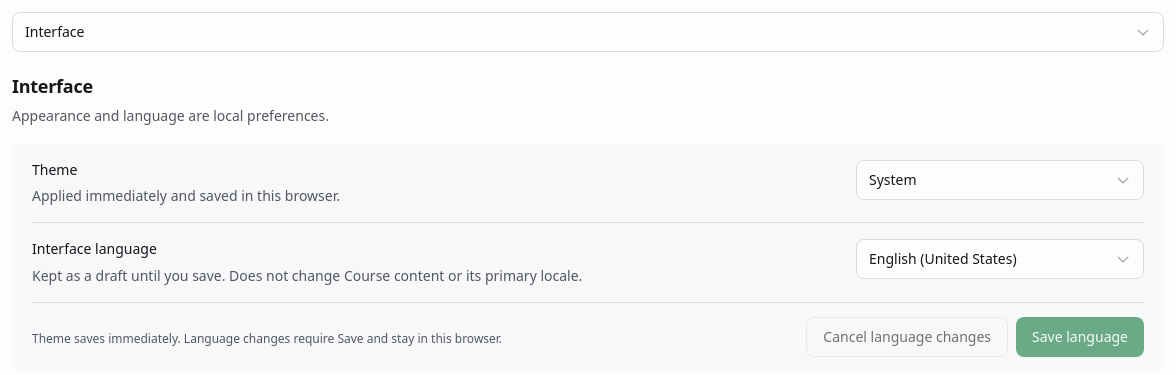
Test case: SettingsForm › cancels the locale draft without changing or persisting the locale
expect the heading "Interface" is shown: met, box [12,74,93,98]
Step 1. Click the dropdown named "Interface language" → (1000, 259), box [856,239,1144,279]
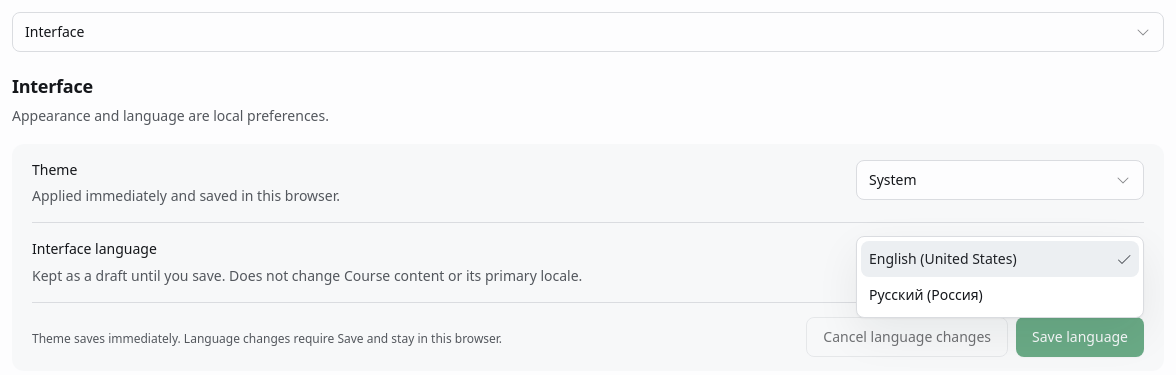
Step 2. Click the option "Русский (Россия)" → (926, 295), box [869,285,983,304]
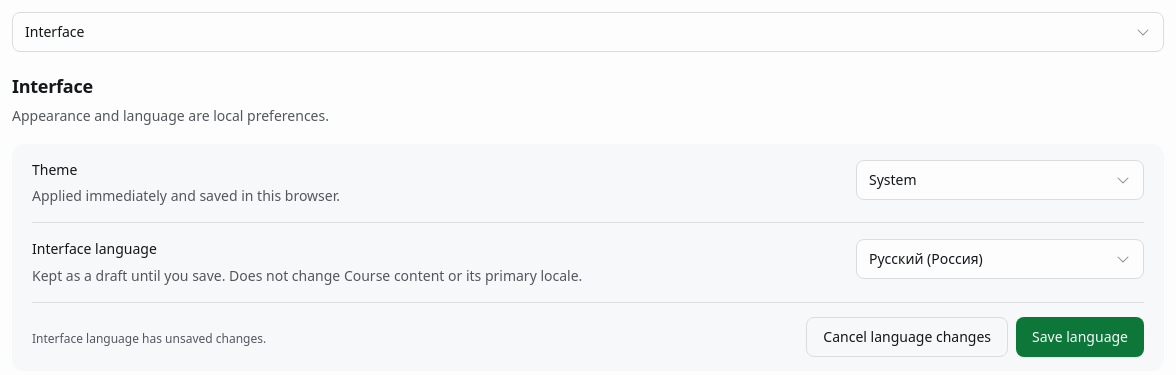
Step 3. Click the button "Cancel language changes" → (907, 336), box [806,316,1008,356]
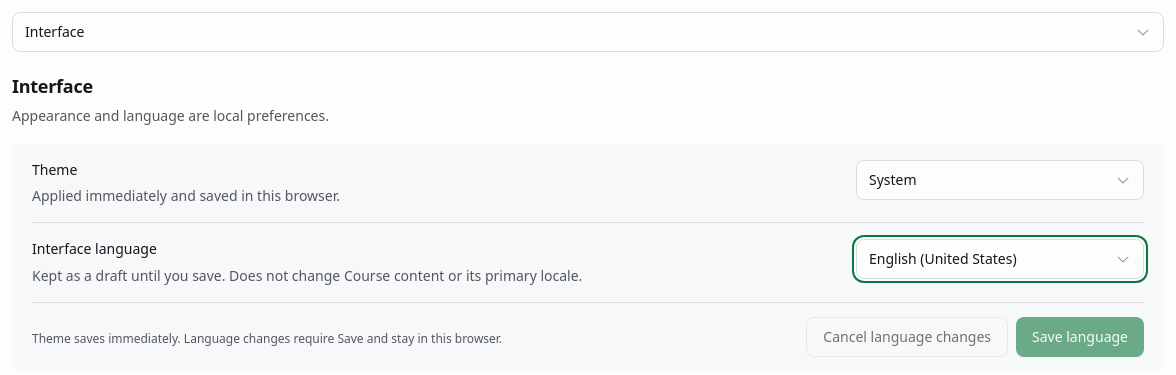
expect the dropdown named "Interface language" reads "English (United States)": met, box [856,239,1144,279]
expect the button "Save language" is disabled: met, box [1016,316,1144,356]
